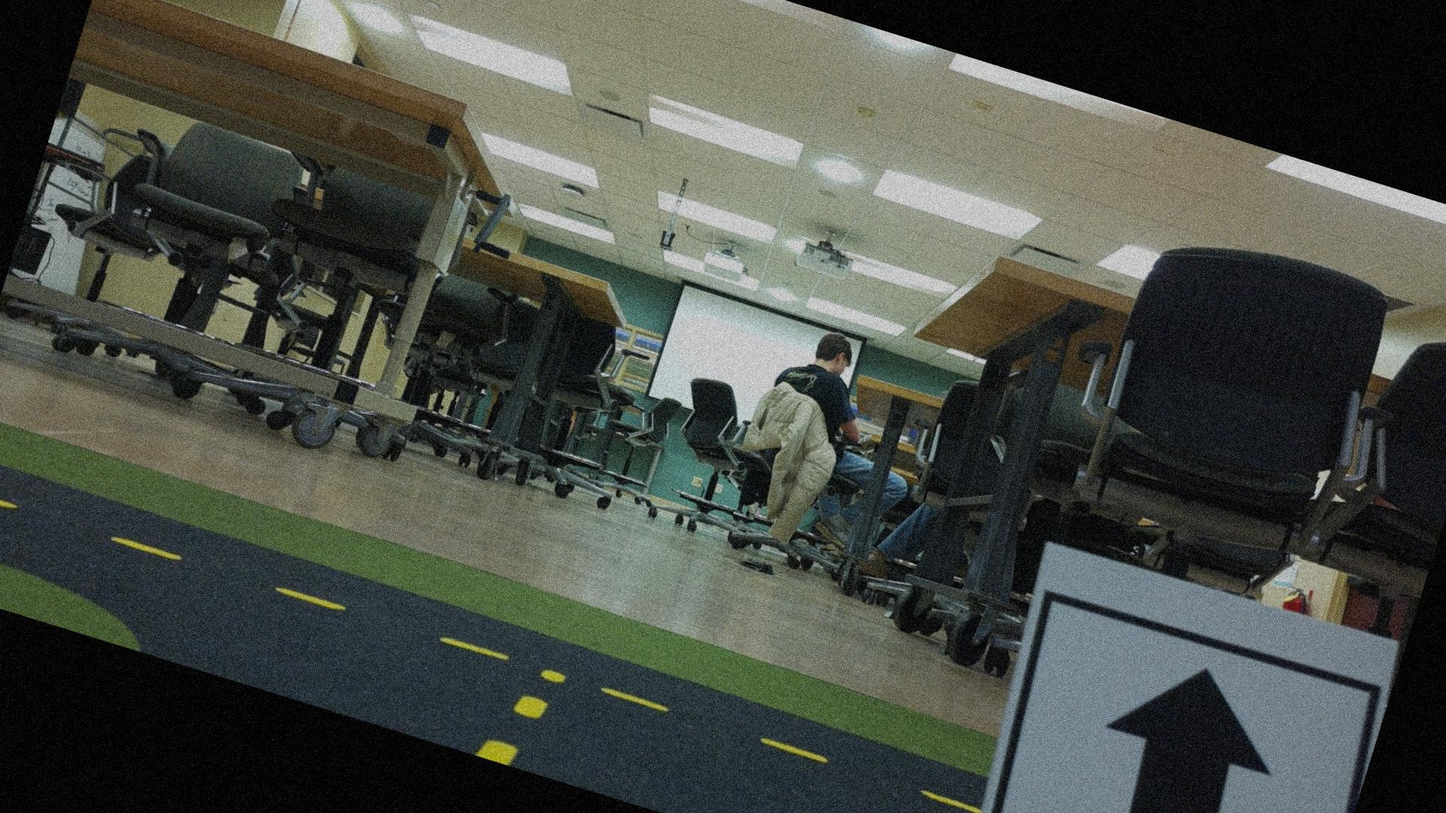gostraight: (964, 552, 1400, 812)
yellowline: (0, 478, 986, 812), (476, 649, 566, 773)
